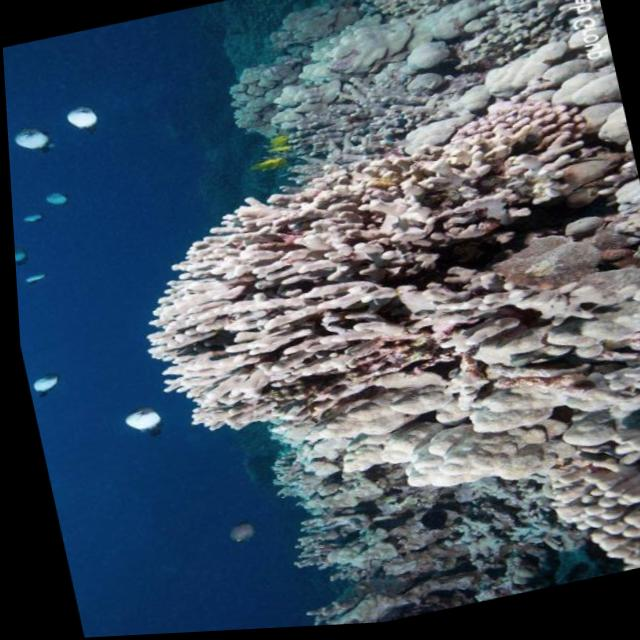Dead Coral: (263, 425, 476, 630)
